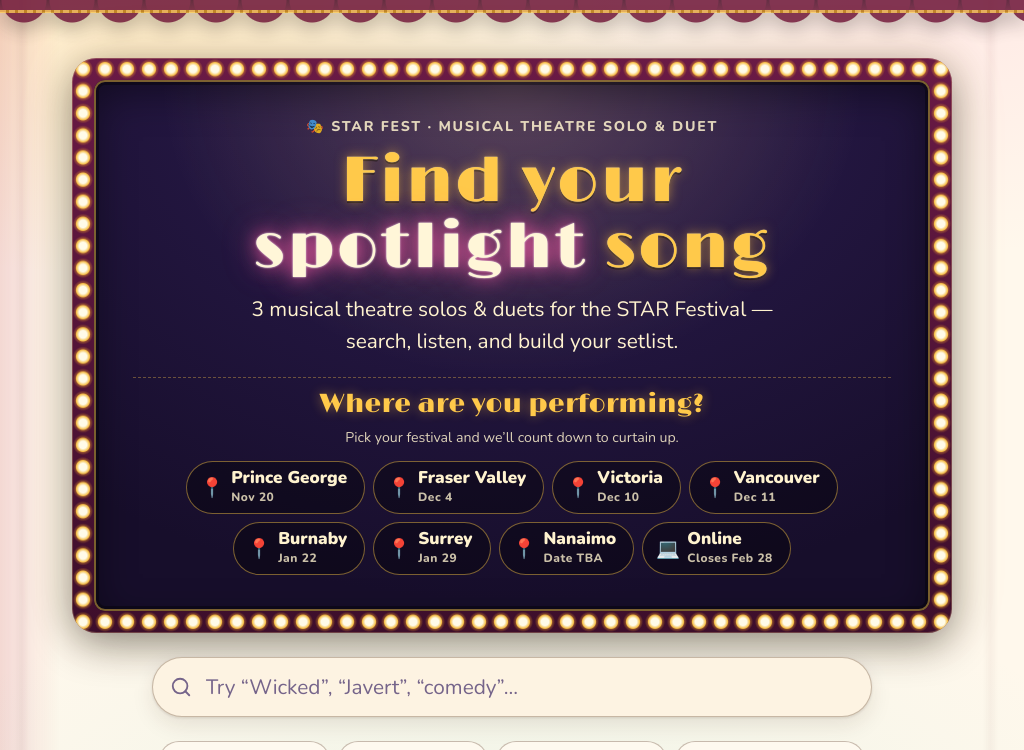
it: HomePage festival hero (SPEC §7b) › tapping a chip sets the festival (remembered on this device) and starts the countdown
Click the button with test id "festival-chip-surrey" at (432, 548), box [373,522,490,575]
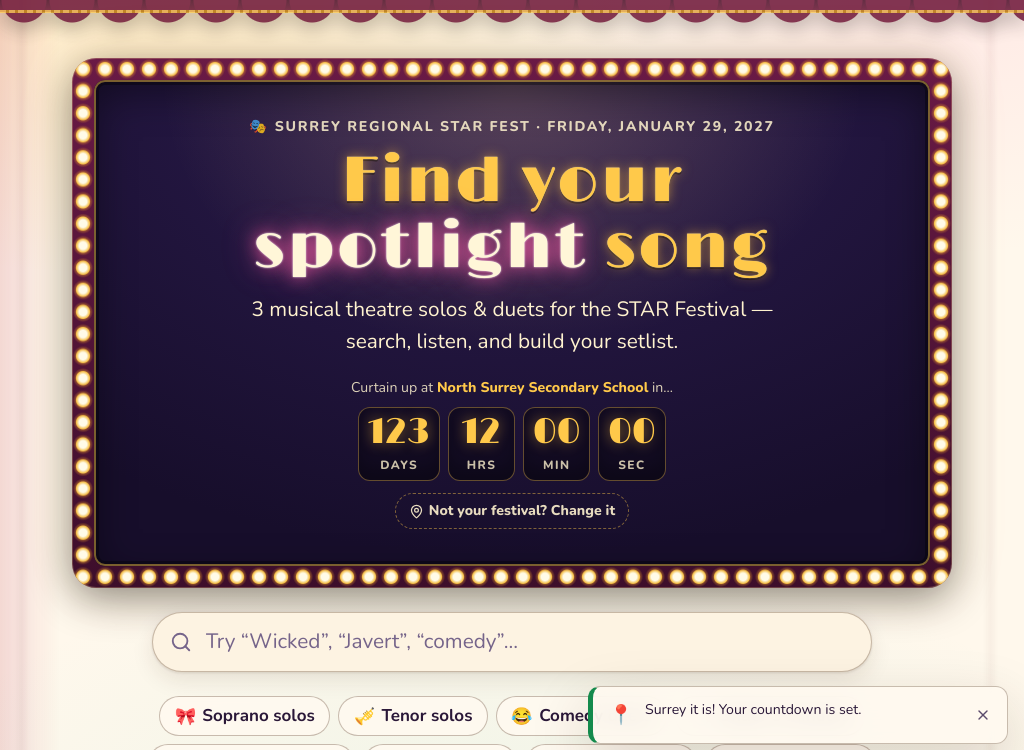
expect the element with test id "countdown" is shown: met, box [358,407,666,481]
expect the element with test id "home-eyebrow" shows "Surrey Regional STAR Fest · Friday, January 29, 2027": met, box [275,118,775,136]
expect the text "Curtain up at North Surrey Secondary School in…" is shown: met, box [351,377,673,399]
